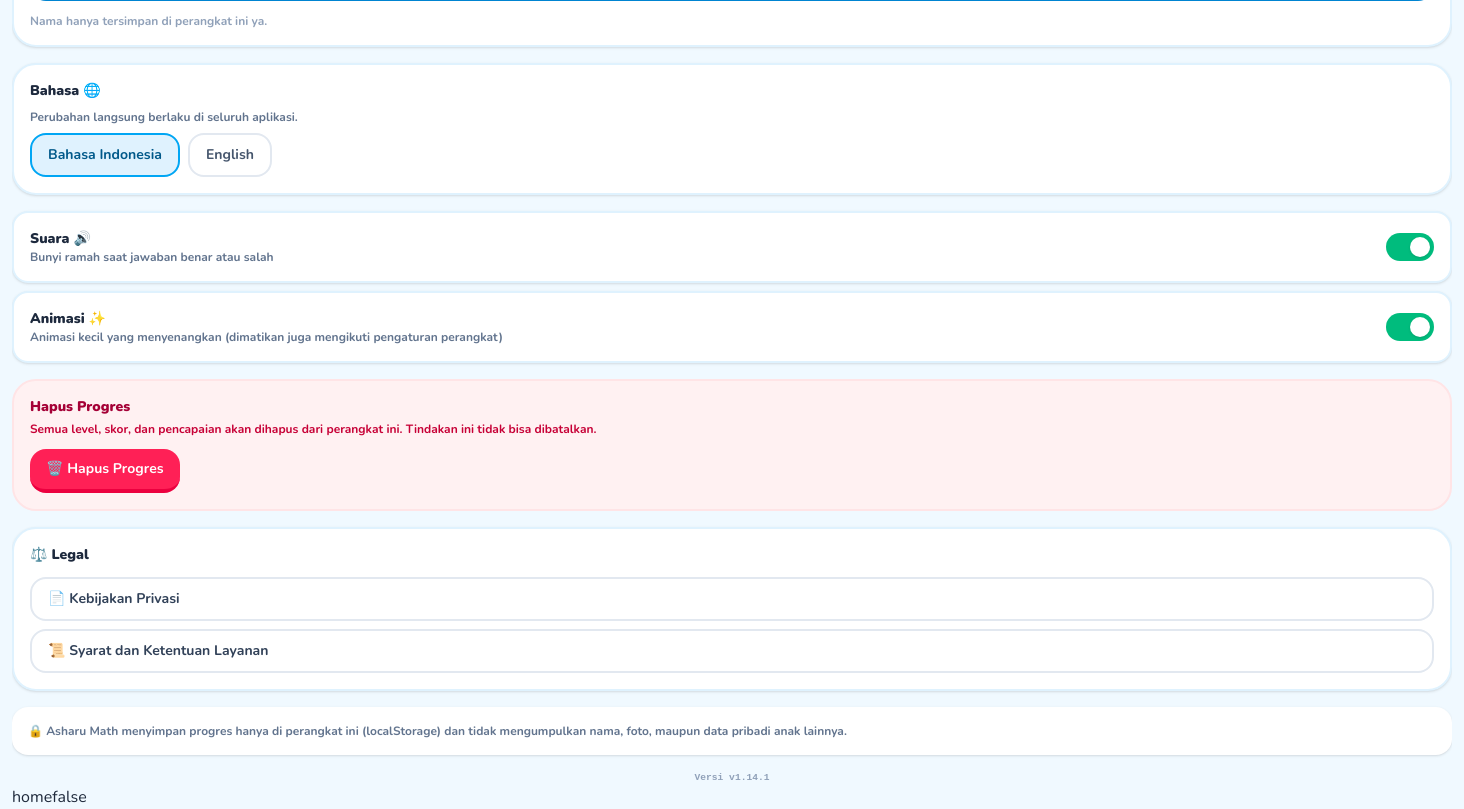
Scenario: Navigasi ke dokumen legal dari Pengaturan › tombol privasi mendorong layar privacy
(page scrolled)
Click the button "📄 Kebijakan Privasi": (124, 598) [30,577,1434,621]
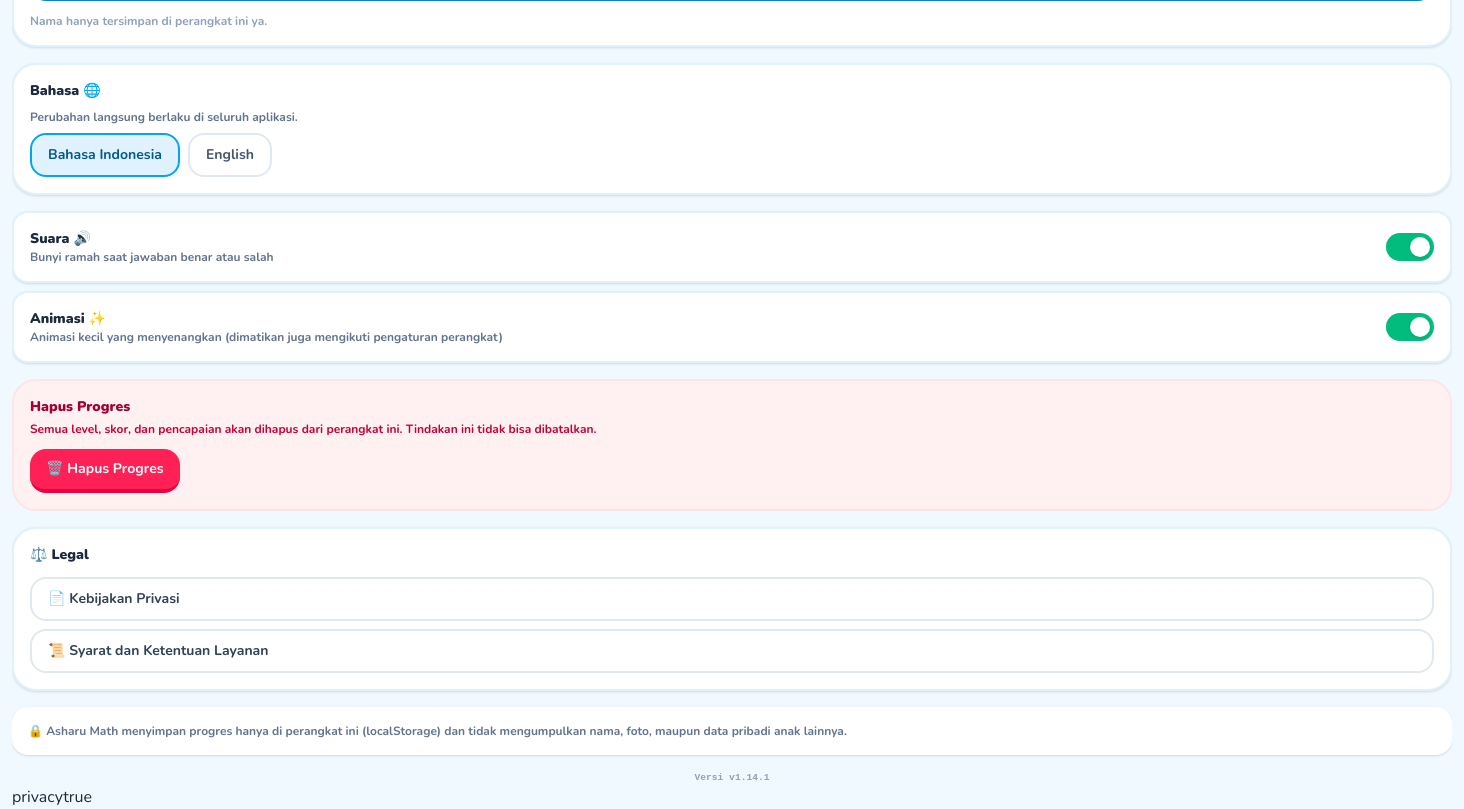
Now the text with test id "probe-screen" reads "privacy", box [12,786,63,808]
